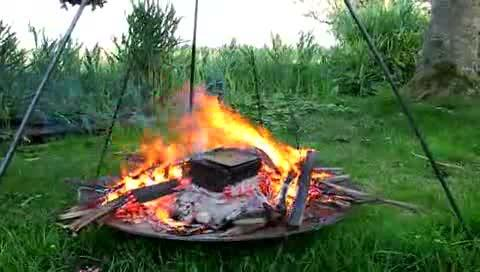fire: (134, 138, 304, 200), (189, 98, 228, 135)
